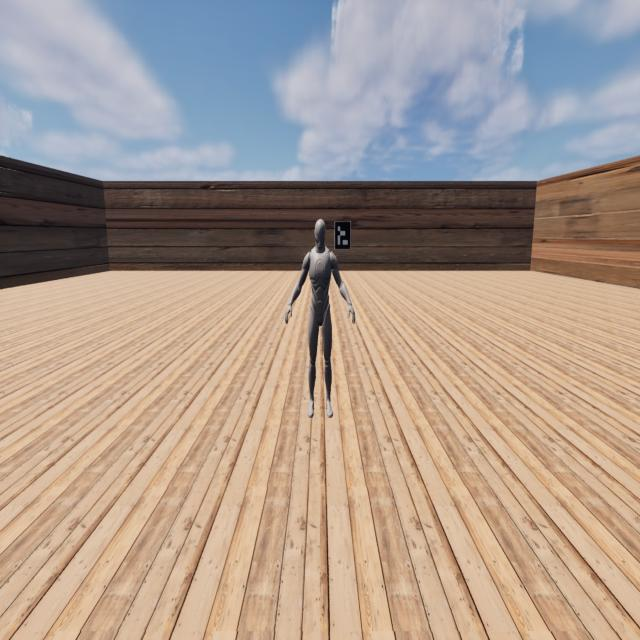aruco: (335, 222, 351, 249)
hip: (309, 302, 331, 316)
